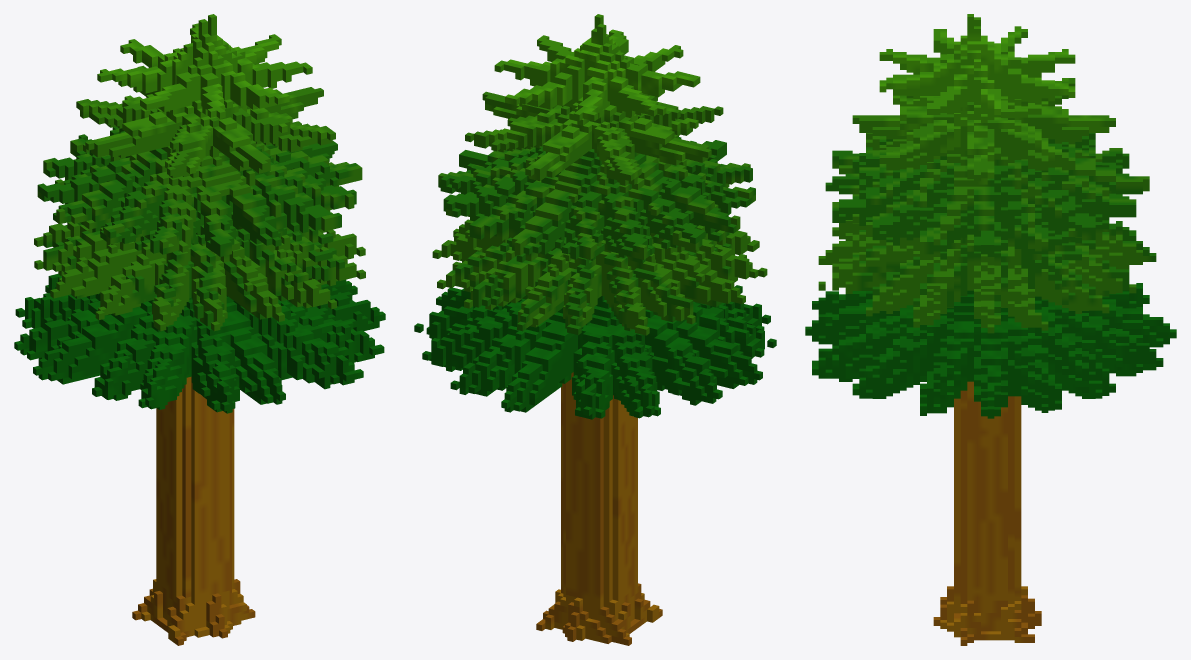
Rendered from Tree_Pine.fbx.
3 renders of one model, left to right at view 1: azimuth 30°, elevation 25°; view 2: azimuth 150°, elevation 25°; view 3: azimuth 270°, elevation 25°, orthographic. The views are drawn at different scales.
Size of the model in its own units: 56 by 100 by 55.
1 material, 1 textured.
